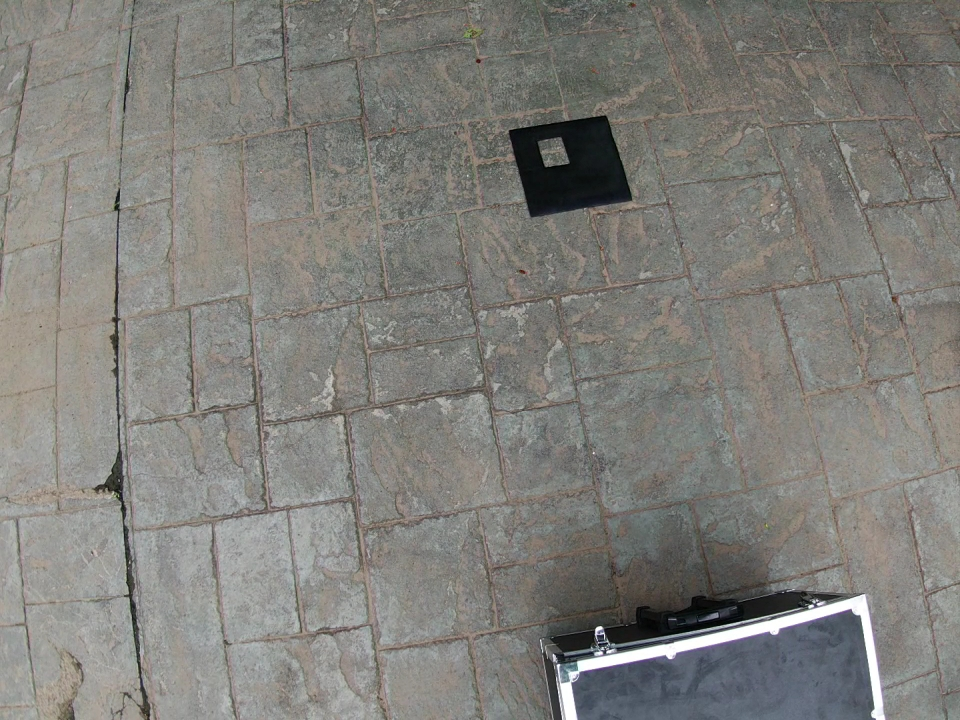box: (541, 590, 883, 720)
qrcode: (508, 116, 632, 217)
